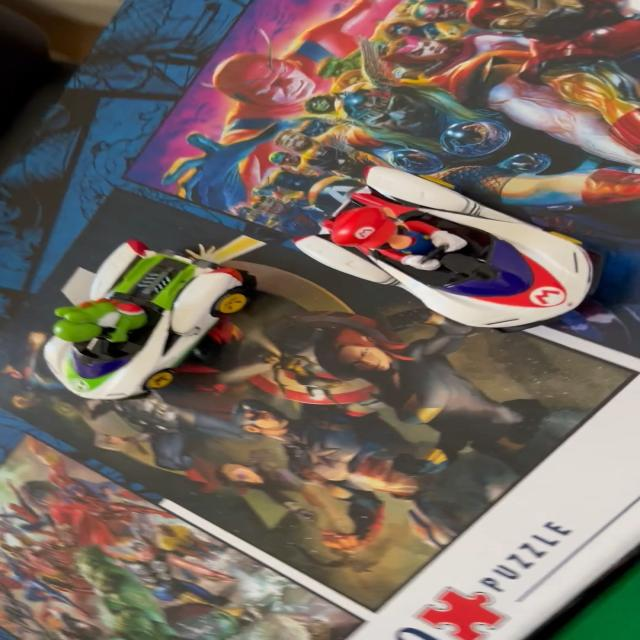mario: (291, 157, 627, 331)
yoshi: (15, 204, 264, 417)
